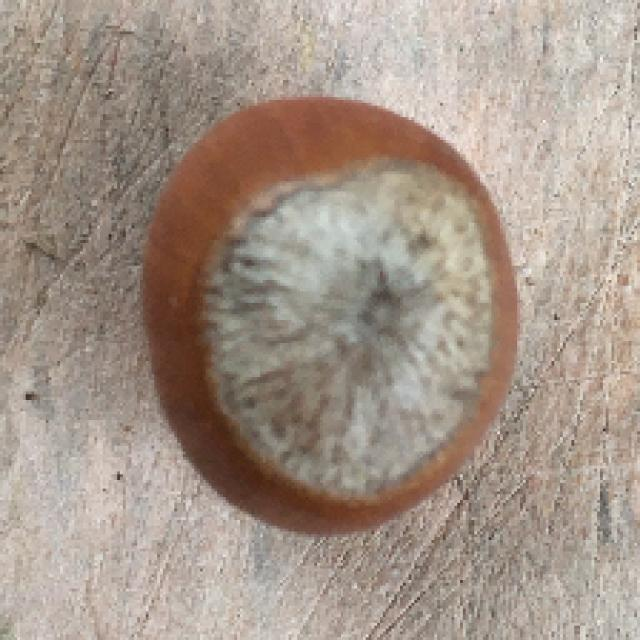damagedHazelnut: (143, 86, 517, 536)
